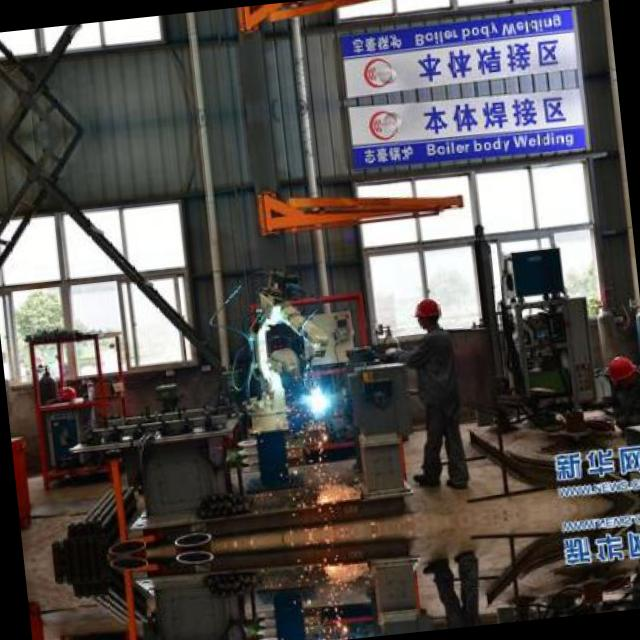helmet: (602, 348, 640, 396), (408, 292, 443, 332)
